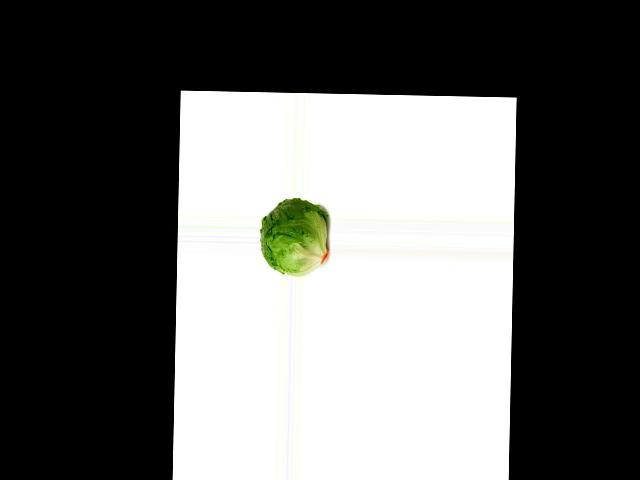lettuce: (259, 198, 327, 272)
